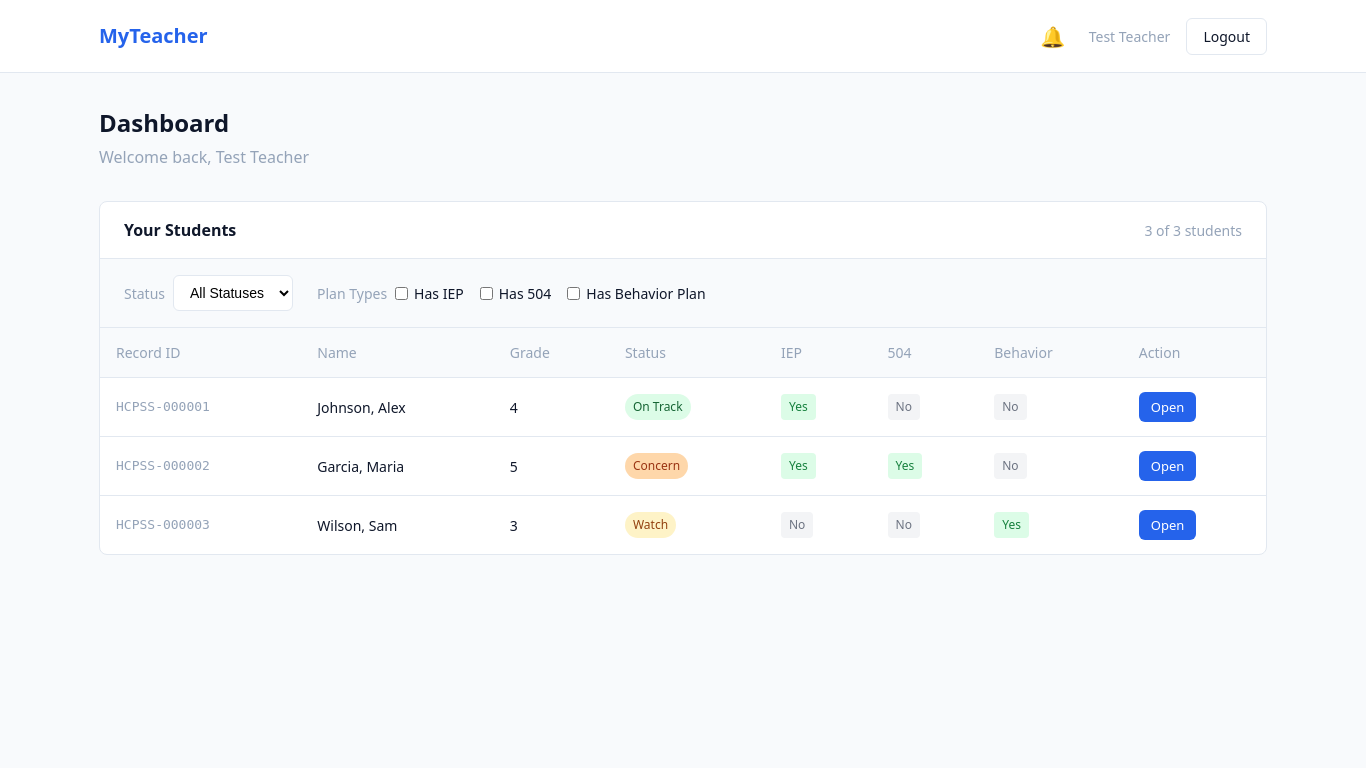
Test: Dashboard Page › Filtering › clears all filters when clear button is clicked
Check: the text "3 of 3 students" is shown, box [1144,220,1242,240]
Note: Apply filters
Select "Watch" in the dropdown at (233, 293), box [173,275,293,311]
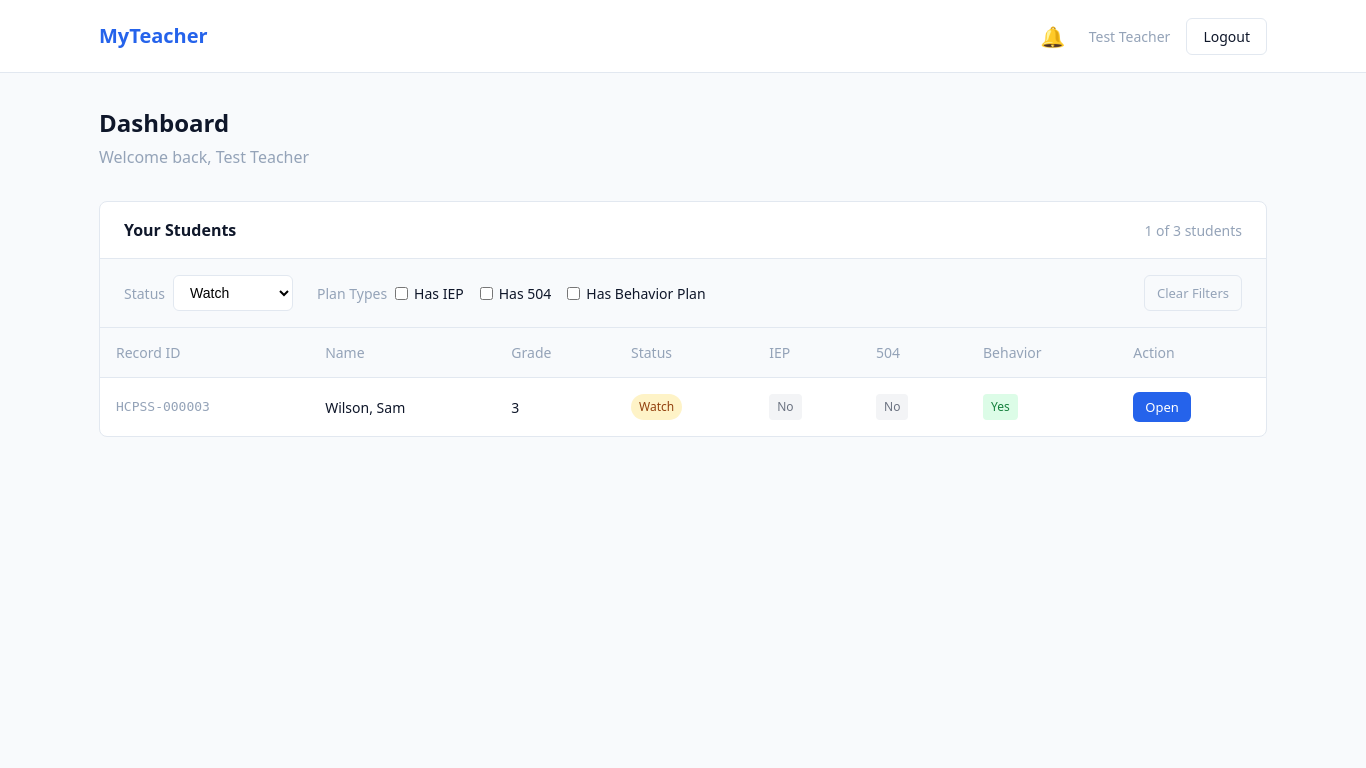
Click the checkbox labelled "Has IEP" at (402, 293), box [395,286,408,300]
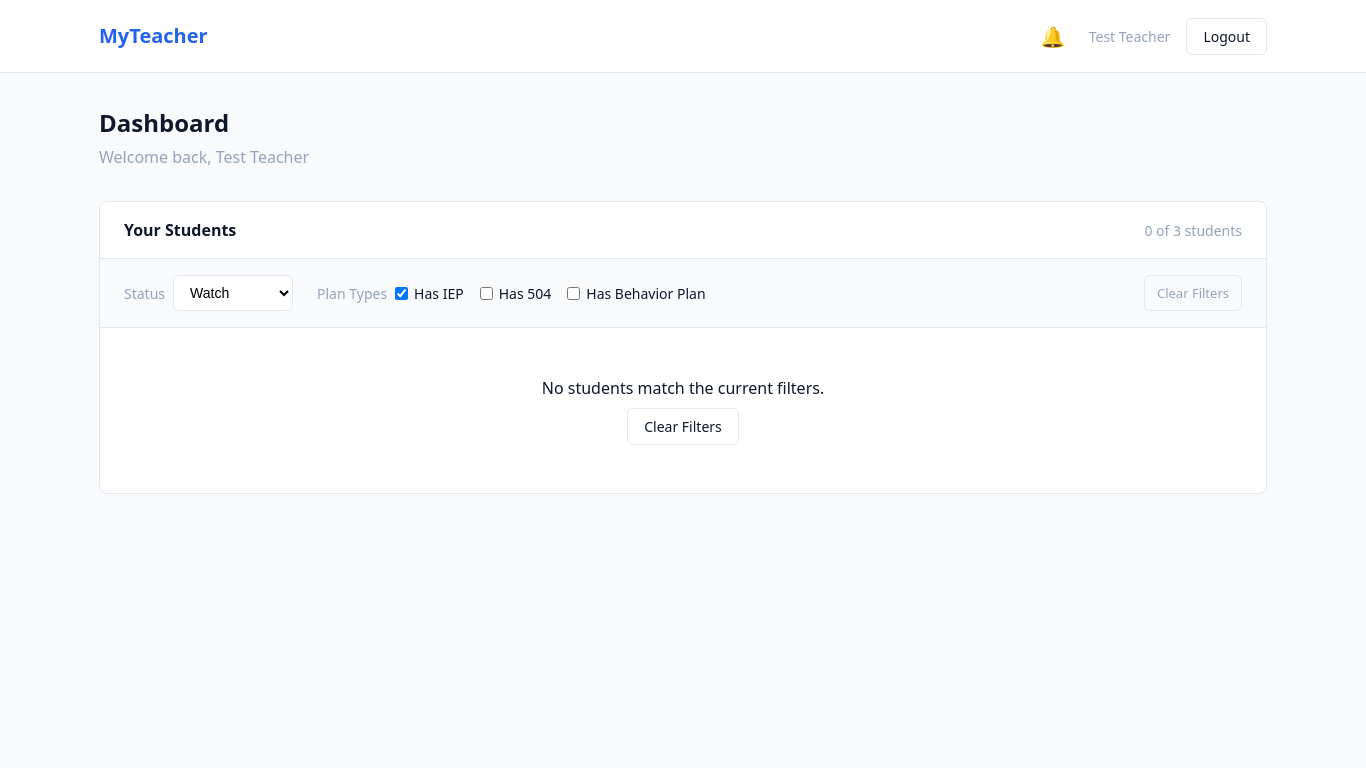
Check: the text "0 of 3 students" is shown, box [1144,220,1242,240]
Note: Clear filters (there are two buttons when showing empty state, click the first one)
Click the button "Clear Filters" in the row of "Has Behavior Plan" at (1193, 293), box [1144,275,1242,311]
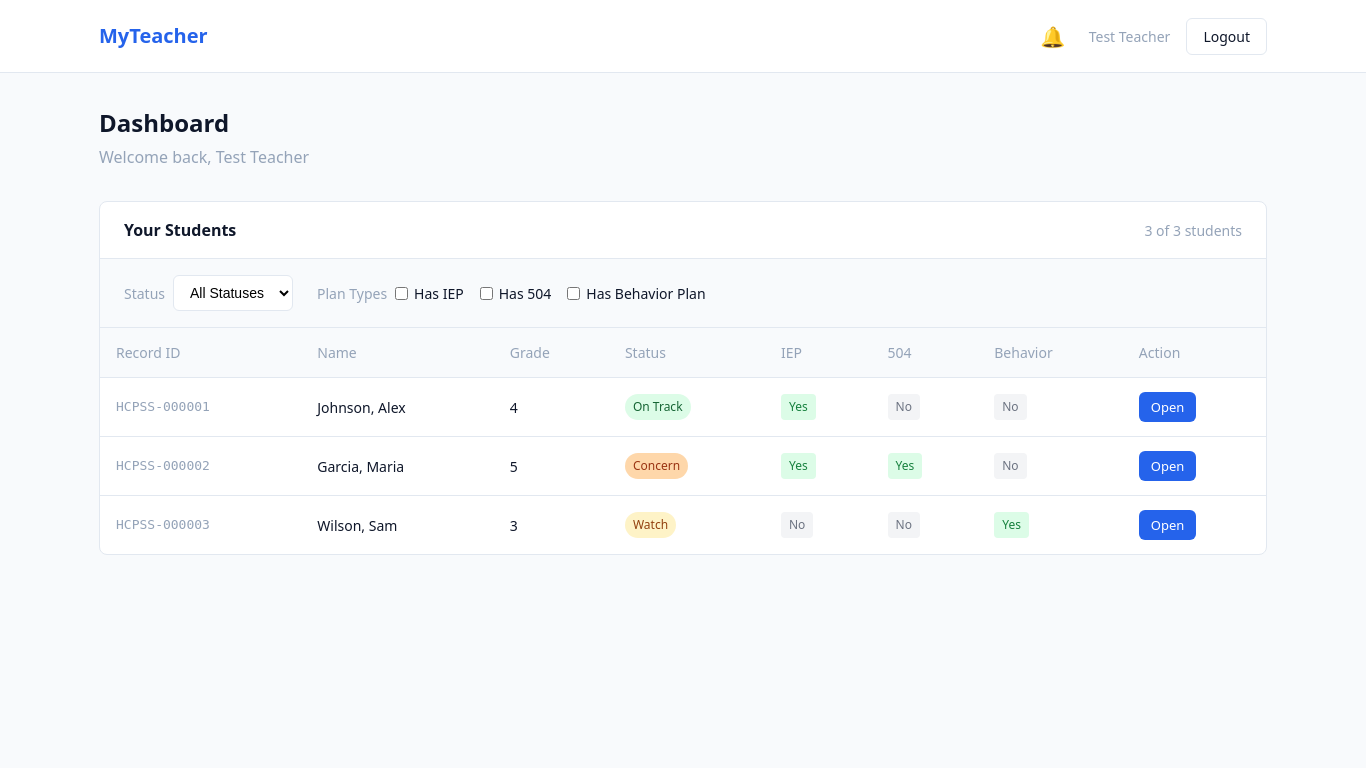
Check: the text "3 of 3 students" is shown, box [1144,220,1242,240]
